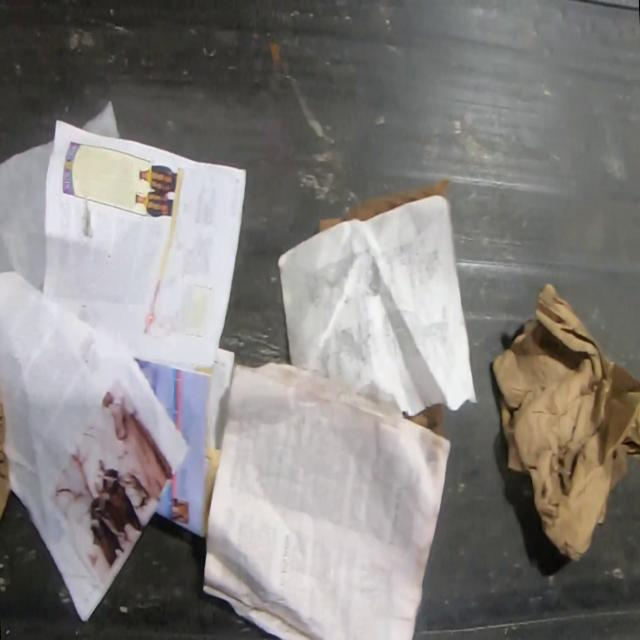cardboard: (490, 280, 640, 561), (323, 172, 451, 230), (0, 385, 12, 523), (403, 401, 443, 436)
